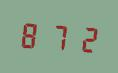eight: (18, 17, 43, 51)
seven: (45, 19, 70, 53)
two: (71, 20, 96, 55)
